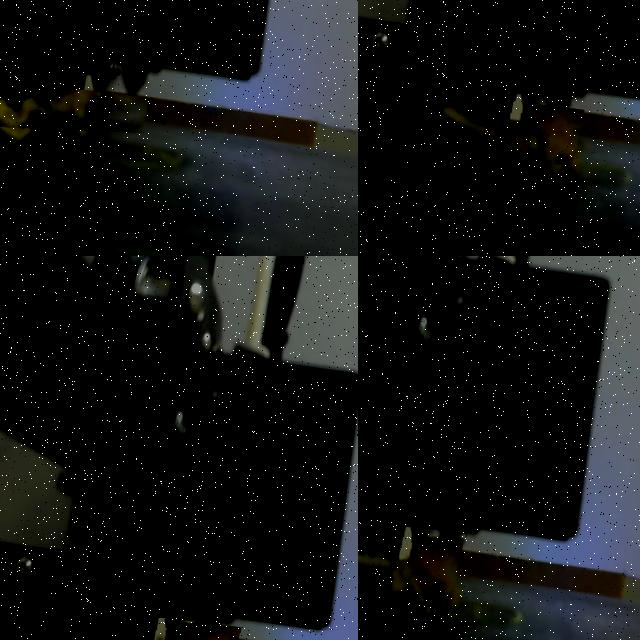spaghetti: (443, 105, 579, 166), (358, 530, 462, 606), (0, 88, 147, 131)
